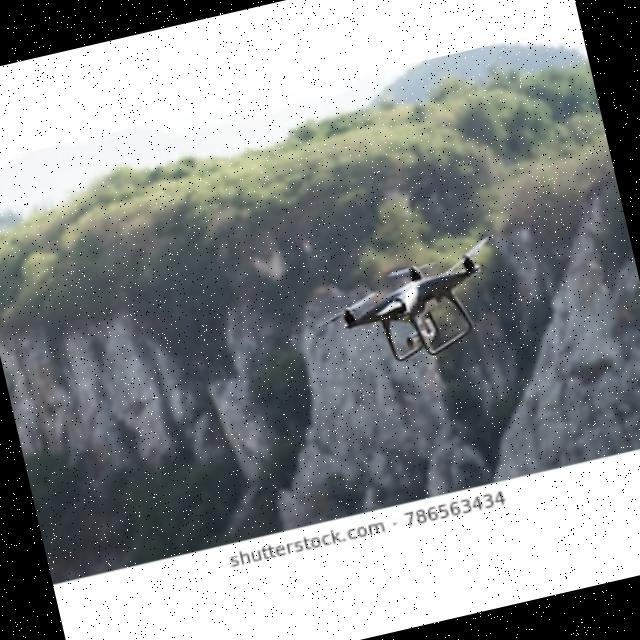Drones: (335, 254, 501, 372)
